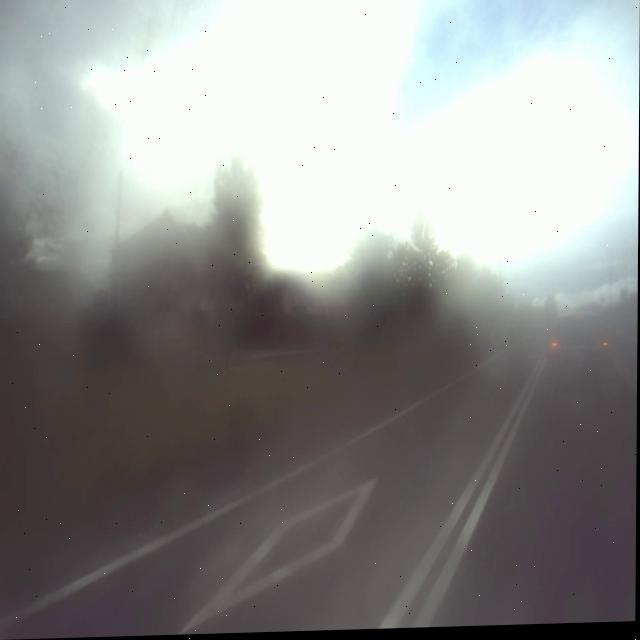car: (548, 304, 615, 404)
